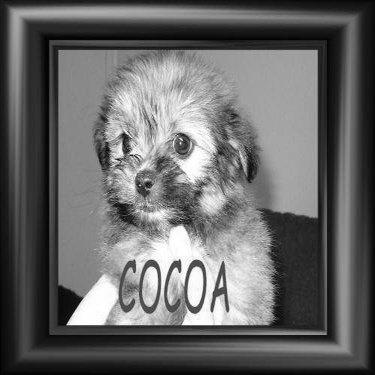dog: (86, 49, 280, 330)
